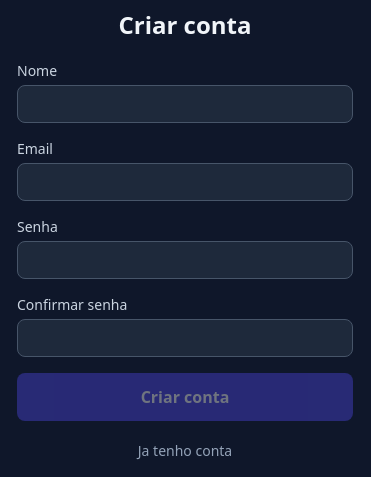
Scenario: Register › shows a success screen after registering
Type "Joao" into the field labelled "Nome" at (185, 104), box [17,85,353,123]
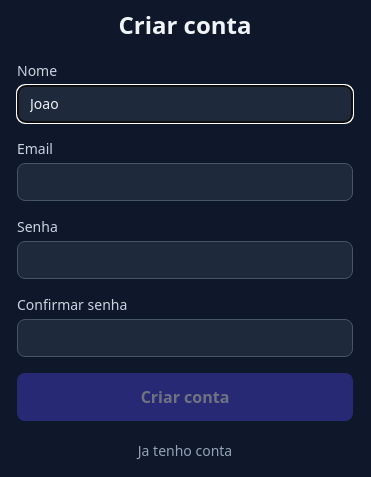
Type "joao@example.com" into the field labelled "Email" at (185, 182), box [17,163,353,201]
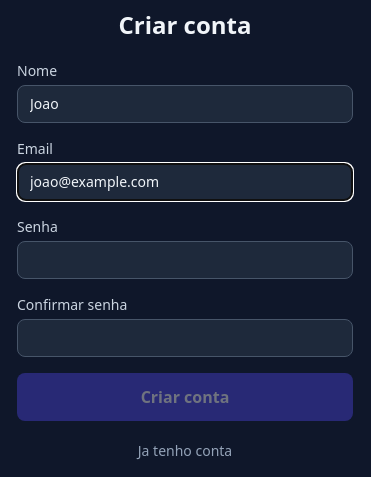
Type "supersecret" into the password field labelled "Senha" at (185, 260), box [17,241,353,279]
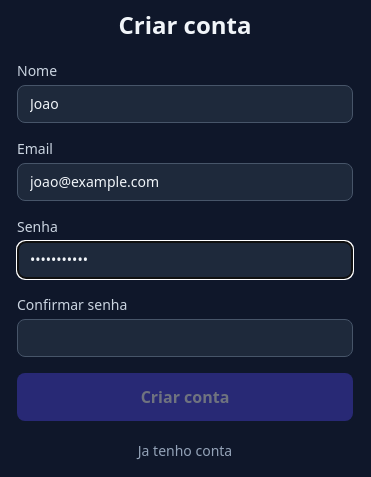
Type "supersecret" into the password field labelled "Confirmar senha" at (185, 338), box [17,319,353,357]
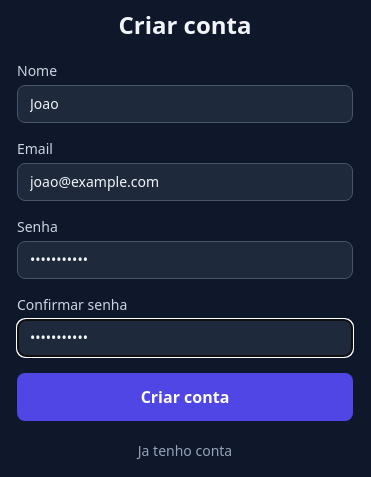
Click the button "Criar conta" at (185, 397), box [17,373,353,421]
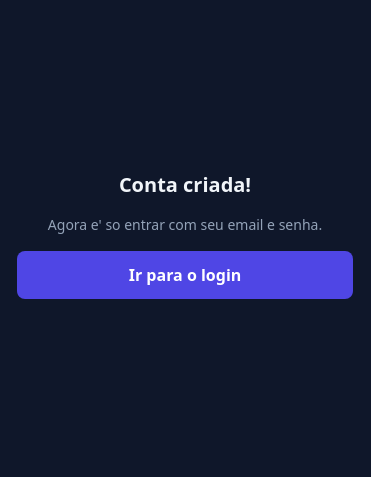
Now the heading "Conta criada!" is shown, box [119,171,251,198]
